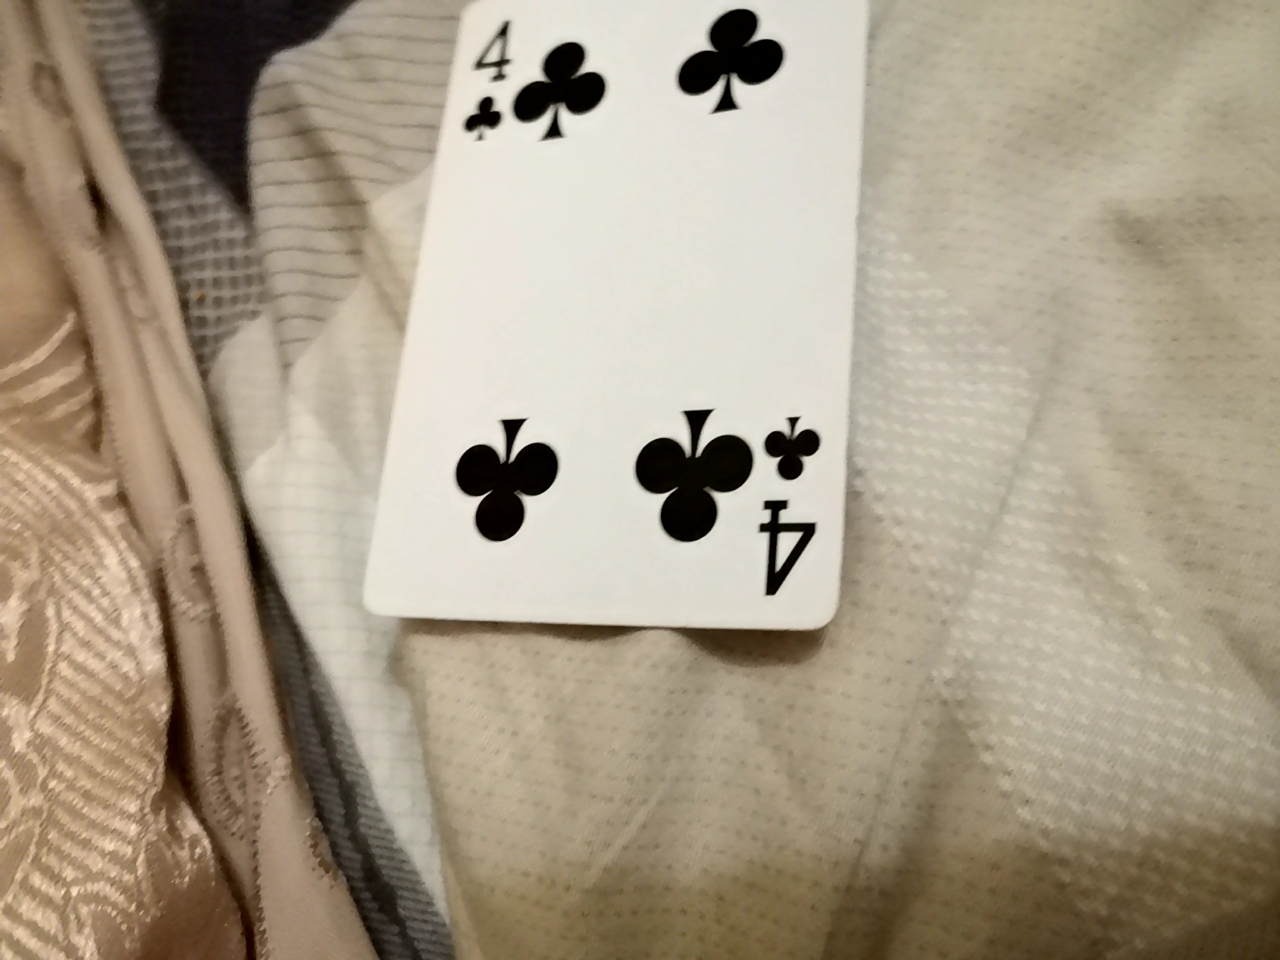mh 4: (391, 20, 906, 647)
